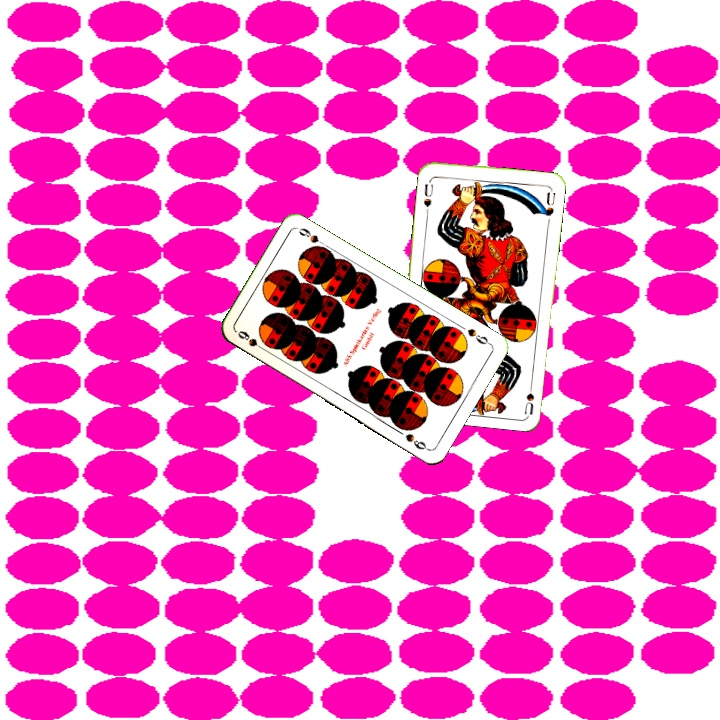S9: (233, 326, 270, 354), (463, 324, 494, 347)
SU: (520, 375, 537, 416), (419, 175, 436, 209)
